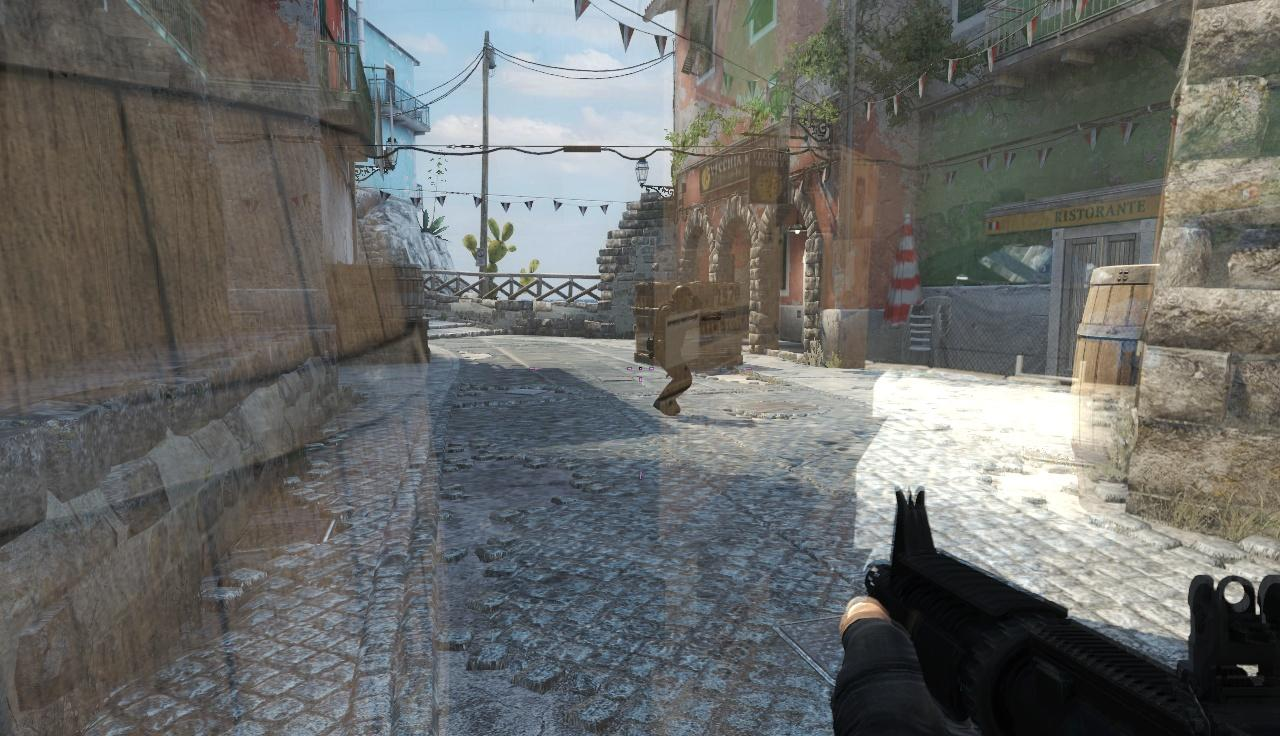ct: (646, 284, 704, 417)
cthead: (671, 285, 693, 310)
rifle: (838, 485, 1280, 736)
